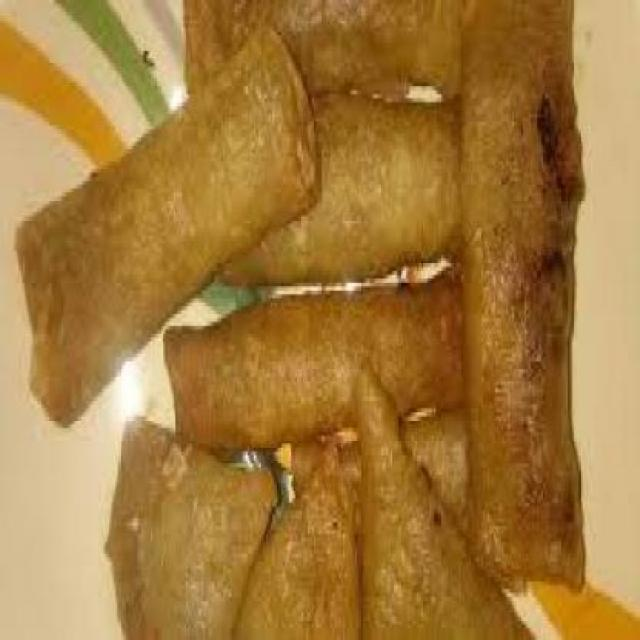samosa: (100, 401, 498, 636)
